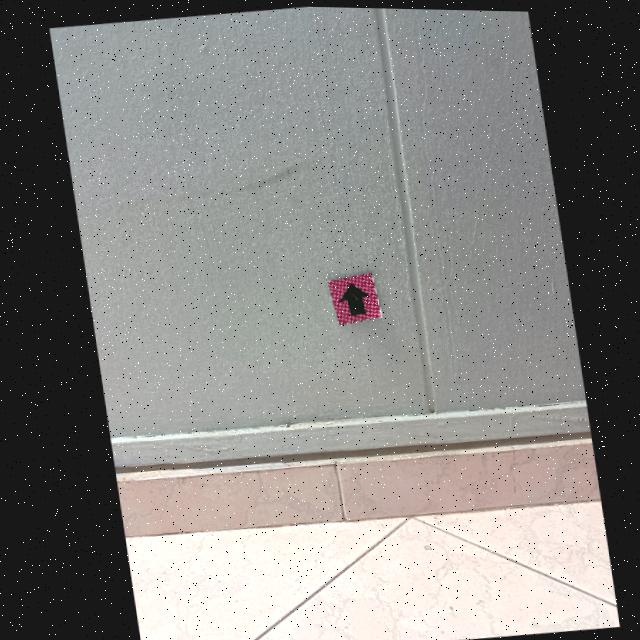UP: (337, 281, 366, 314)
